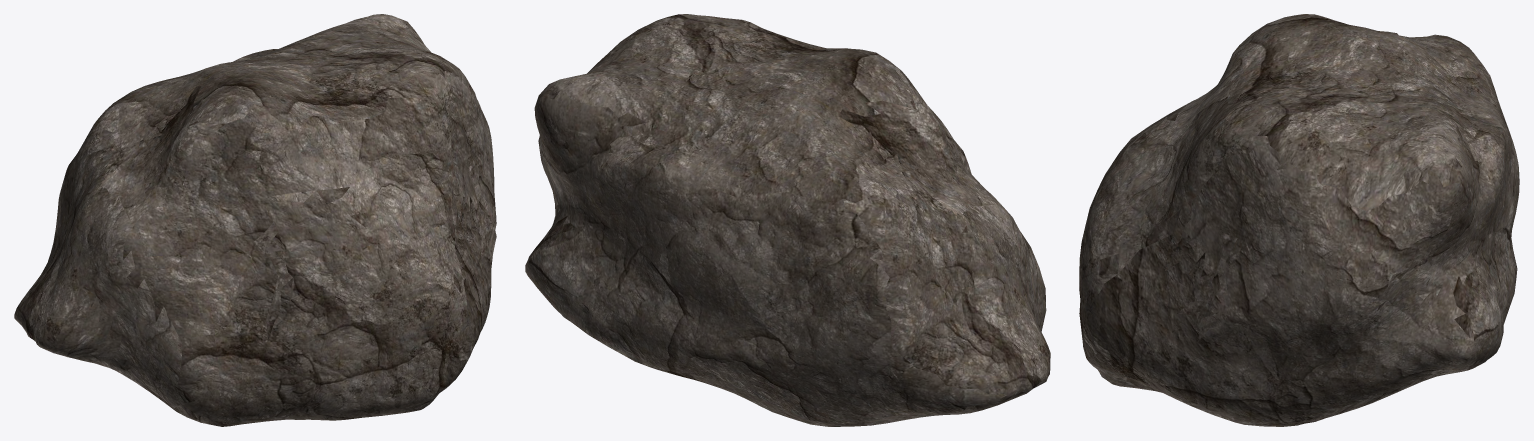
Rendered from cascajo_rock_3.glb.
3 renders of one model, left to right at view 1: azimuth 30°, elevation 25°; view 2: azimuth 150°, elevation 25°; view 3: azimuth 270°, elevation 25°, orthographic. The views are drawn at different scales.
Parts seen in each view (by area): view 1: rock_3; view 2: rock_3; view 3: rock_3.
Boxes of the visible parts, box(x1,y1,x2,y2) form: rock_3: box(14, 14, 496, 426); rock_3: box(525, 14, 1050, 426); rock_3: box(1079, 14, 1519, 426).
Bounding box in the file's own units: 1 × 0.6272 × 0.7559.
1 material, 1 textured.
